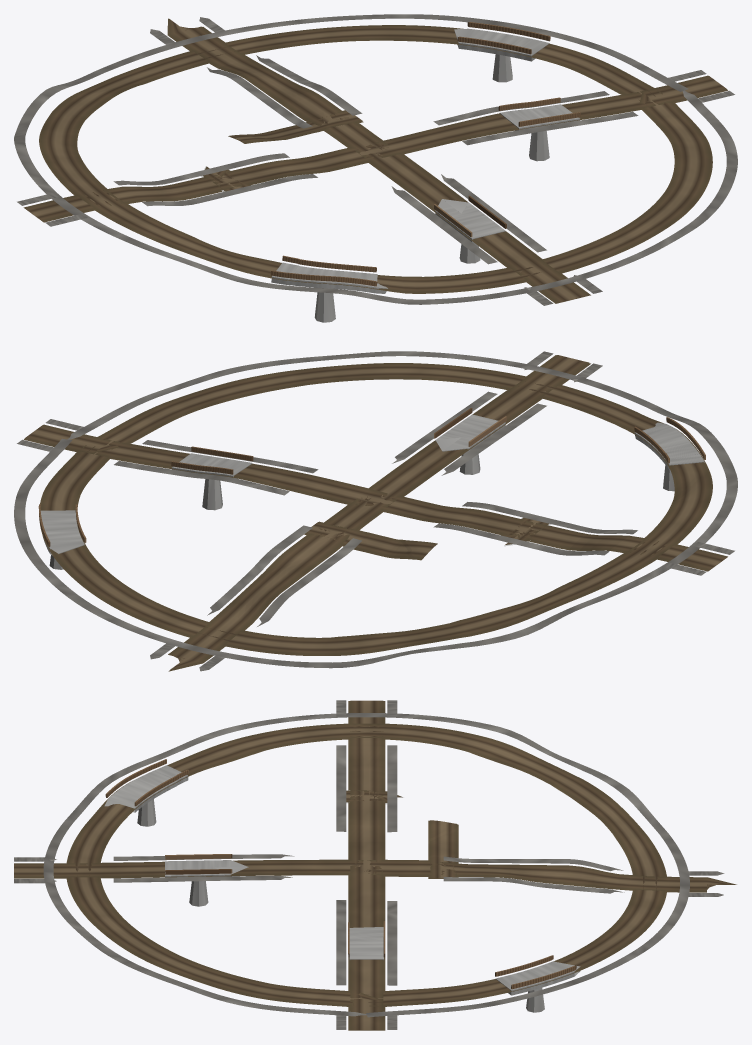
Rendered from Roads_P1.fbx.
3 views of the same model, one above another, from view 1: azimuth 30°, elevation 25°; view 2: azimuth 150°, elevation 25°; view 3: azimuth 270°, elevation 25° (orthographic). The views are drawn at different scales.
Visible parts, largest first — view 1: Road.Loop, Walk.Ring, Road.X, Road.Y, Road.Loop.shoulder, Road.Loop.Bridge1.Deck, Road.X.shoulder, Road.Loop.Bridge0.Deck, Road.Y.Bridge0.Deck, Road.Y.shoulder, Street.TownN, Walk.YSI.001 (+12 smaller); view 2: Road.Loop, Walk.Ring, Road.Y, Road.X, Road.Loop.shoulder, Street.TownN, Road.X.shoulder, Road.Loop.Bridge1.Deck, Road.Loop.Bridge0.Deck, Road.Y.shoulder, Road.Y.Bridge0.Deck, Walk.YNI (+9 smaller); view 3: Road.Loop, Walk.Ring, Road.X, Road.Y, Road.Loop.shoulder, Road.Loop.Bridge1.Deck, Road.X.shoulder, Street.TownN, Road.Y.shoulder, Road.Loop.Bridge0.Deck, Road.X.Bridge0.Deck, Road.Y.Bridge0.Deck (+8 smaller).
Part boxes in pixels (x1=…): Road.Loop: x1=41, y1=25, x2=710, y2=292; Walk.Ring: x1=14, y1=14, x2=737, y2=304; Road.X: x1=24, y1=76, x2=727, y2=221; Road.Y: x1=169, y1=19, x2=589, y2=302; Road.Loop.shoulder: x1=39, y1=25, x2=712, y2=293; Road.Loop.Bridge1.Deck: x1=271, y1=262, x2=387, y2=293; Road.X.shoulder: x1=23, y1=75, x2=727, y2=222; Road.Loop.Bridge0.Deck: x1=454, y1=28, x2=549, y2=61; Road.Y.Bridge0.Deck: x1=435, y1=199, x2=505, y2=243; Road.Y.shoulder: x1=167, y1=18, x2=590, y2=303; Street.TownN: x1=229, y1=110, x2=362, y2=142; Walk.YSI.001: x1=391, y1=186, x2=497, y2=264; Road.Loop: x1=41, y1=363, x2=710, y2=654; Walk.Ring: x1=14, y1=351, x2=737, y2=668; Road.Y: x1=169, y1=355, x2=589, y2=669; Road.X: x1=24, y1=425, x2=727, y2=570; Road.Loop.shoulder: x1=39, y1=363, x2=712, y2=655; Street.TownN: x1=305, y1=522, x2=436, y2=558; Road.X.shoulder: x1=24, y1=424, x2=727, y2=571; Road.Loop.Bridge1.Deck: x1=634, y1=422, x2=704, y2=470; Road.Loop.Bridge0.Deck: x1=40, y1=510, x2=84, y2=555; Road.Y.shoulder: x1=168, y1=355, x2=590, y2=671; Road.Y.Bridge0.Deck: x1=435, y1=414, x2=505, y2=454; Walk.YNI: x1=207, y1=525, x2=312, y2=615; Road.Loop: x1=68, y1=723, x2=665, y2=1006; Walk.Ring: x1=43, y1=713, x2=689, y2=1017; Road.X: x1=350, y1=700, x2=383, y2=1029; Road.Y: x1=14, y1=860, x2=734, y2=891; Road.Loop.shoulder: x1=66, y1=723, x2=666, y2=1006; Road.Loop.Bridge1.Deck: x1=104, y1=765, x2=188, y2=812; Road.X.shoulder: x1=348, y1=701, x2=385, y2=1030; Street.TownN: x1=430, y1=820, x2=456, y2=878; Road.Y.shoulder: x1=14, y1=859, x2=736, y2=892; Road.Loop.Bridge0.Deck: x1=495, y1=961, x2=580, y2=995; Road.X.Bridge0.Deck: x1=349, y1=927, x2=383, y2=960; Road.Y.Bridge0.Deck: x1=165, y1=860, x2=248, y2=877.
Size of the model in its own units: 18400 by 1809 by 18879.
